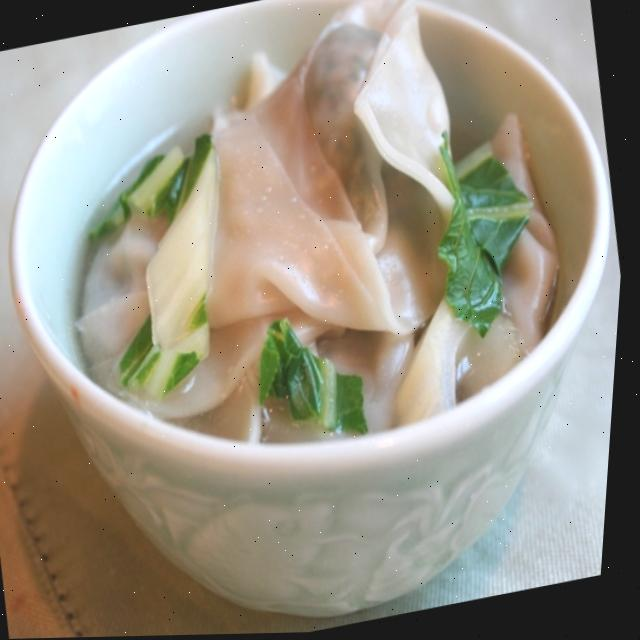汤锅炖物: (22, 0, 616, 509)
